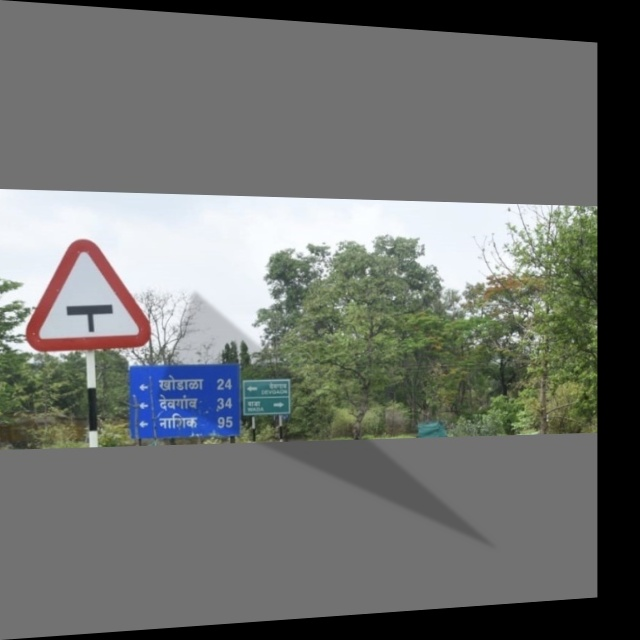T_Intersection: (23, 236, 156, 362)
